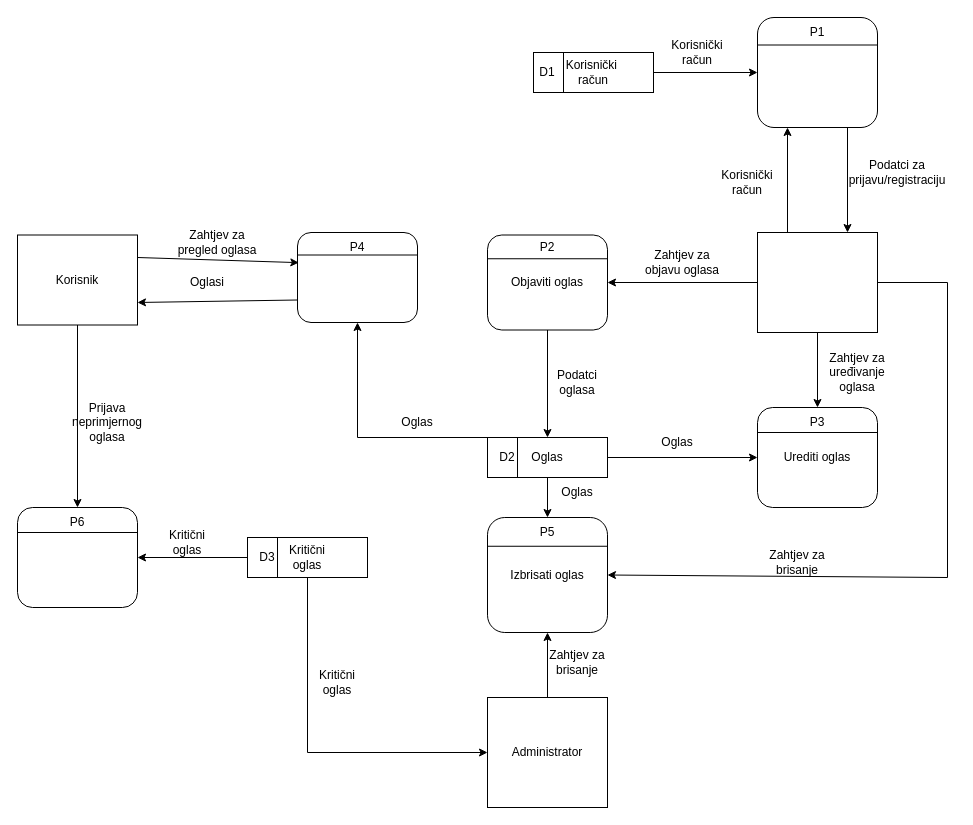
The diagram is 973 pixels wide and 825 high, and some of its shapes have lost their labels. Here are the shapes that lost their labels. From the top down, the box of each, then its label:
(756, 16, 878, 128): Prijaviti/Registrirati korisnika
(296, 232, 418, 322): Pretražiti oglas
(756, 232, 878, 332): Stvaratelj oglasa
(16, 506, 138, 608): Prijaviti oglas
